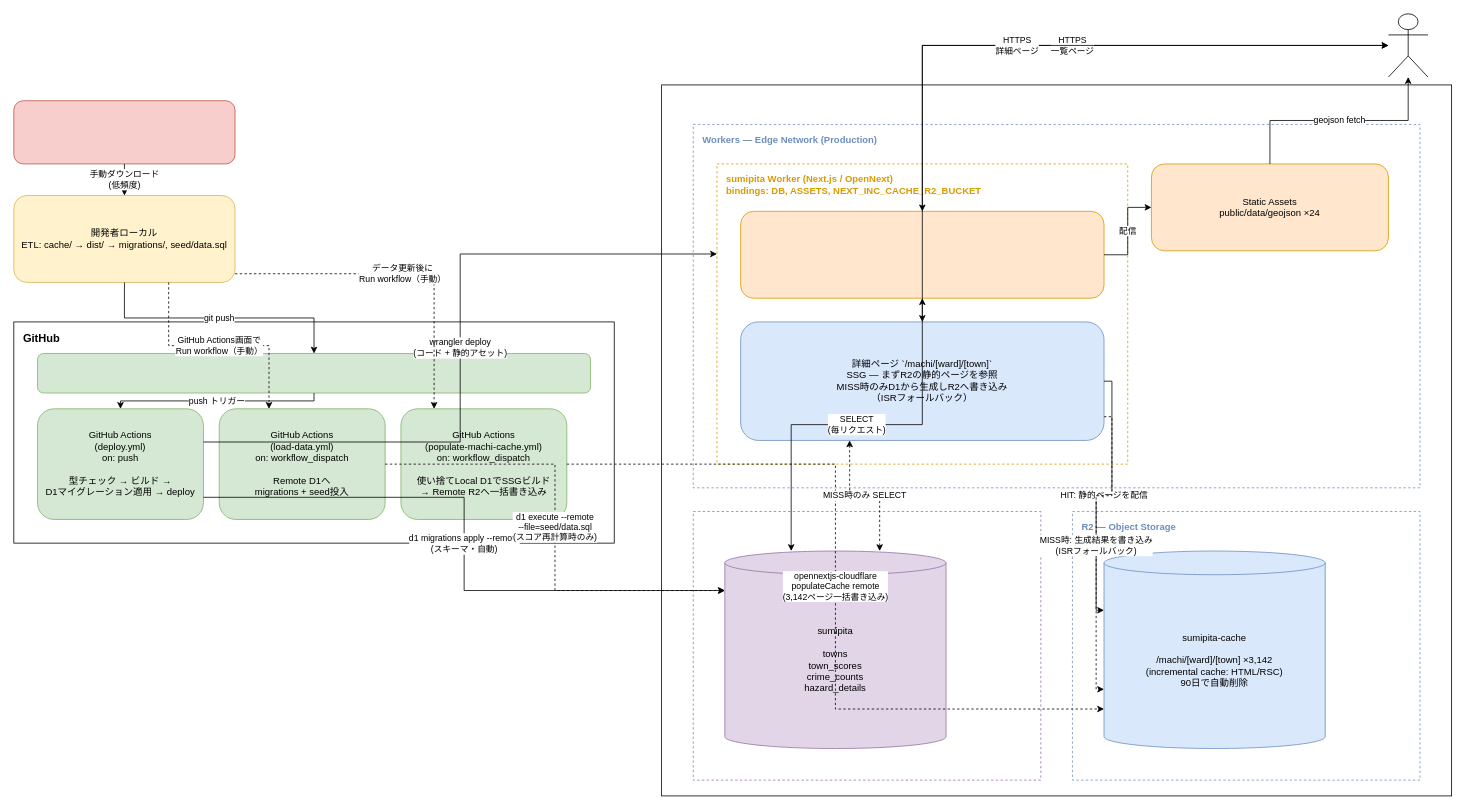
Some shapes in this 1465 by 810 pixel diagram are drawn without their labels. The shapes that lost their labels are listed below. From the top down, each one's box as (x1, y1, x2, y2) in pixels, then its label:
(1388, 13, 1428, 77): Users
(13, 100, 235, 164): 公的データソース (警視庁 / 東京都 / 国交省 / e-Stat)
(740, 211, 1104, 298): 一覧ページ `/` ・ `/api/town` SSR（今まで通り・毎リクエスト処理）
(37, 353, 591, 393): Repository (main)
(661, 84, 1452, 796): Cloudflare
(692, 511, 1041, 780): D1 — SQLite at the Edge
